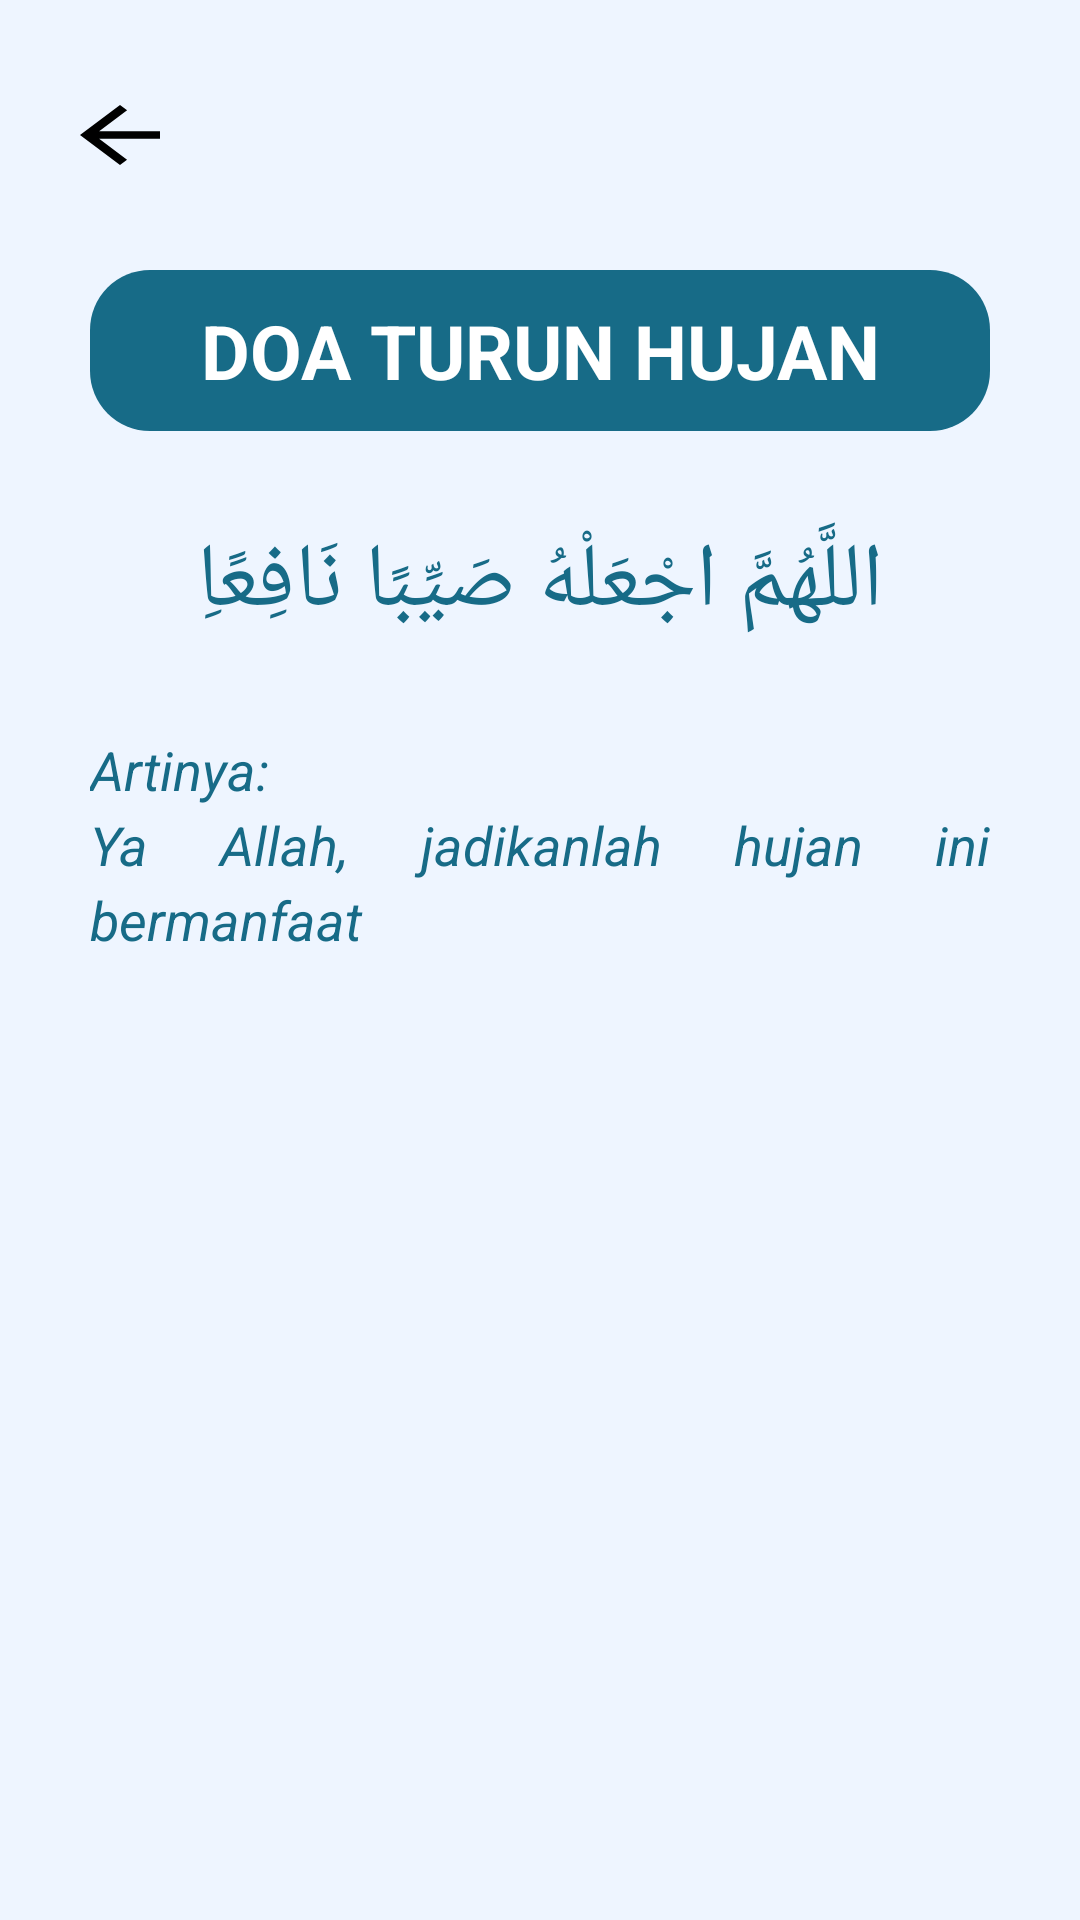

Where icons sit on this 1080×1920 app screen, as (x1, y1, x2, y2):
arrow back: (80, 105, 160, 165)
